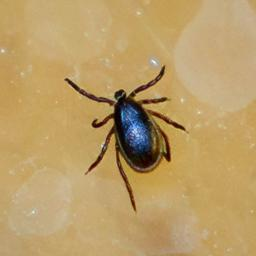Ixodes scapularis: (63, 64, 189, 214)
